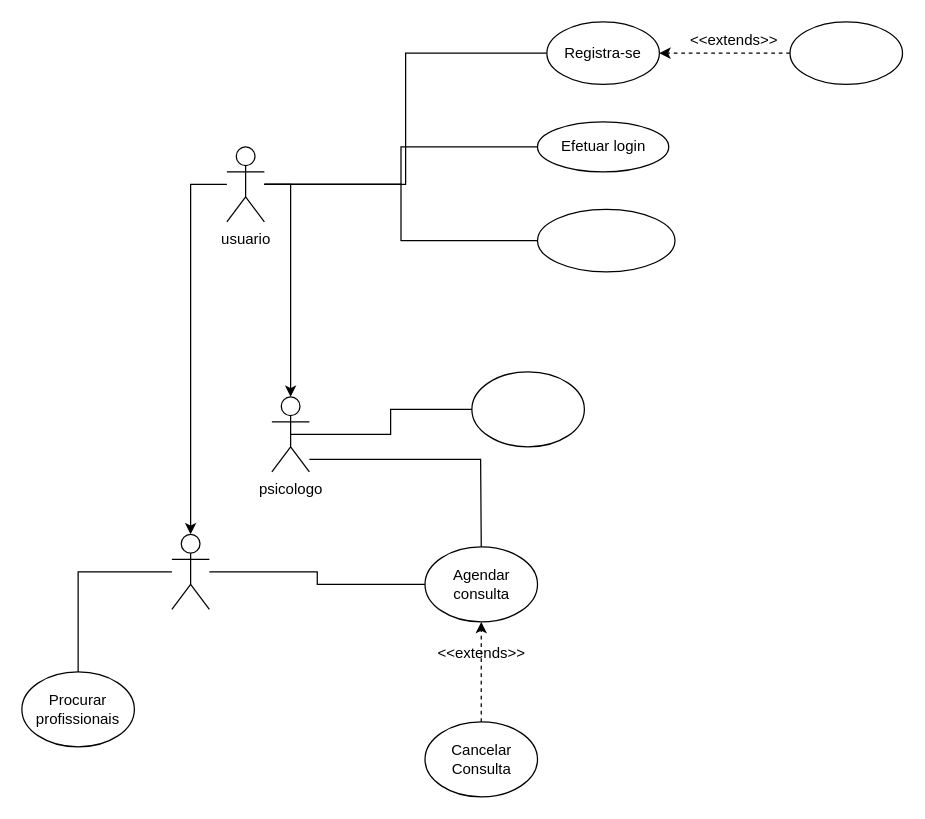
Some shapes in this 925 by 819 pixel diagram are drawn without their labels. The centre of each missing label's shape, as x and y in pixels:
"Inserir CRP (caso for psicologo)" goes at pixel 845 52.
"paciente" goes at pixel 190 571.
"Pagamento" goes at pixel 527 409.
"Visualizar perfil" goes at pixel 605 240.
